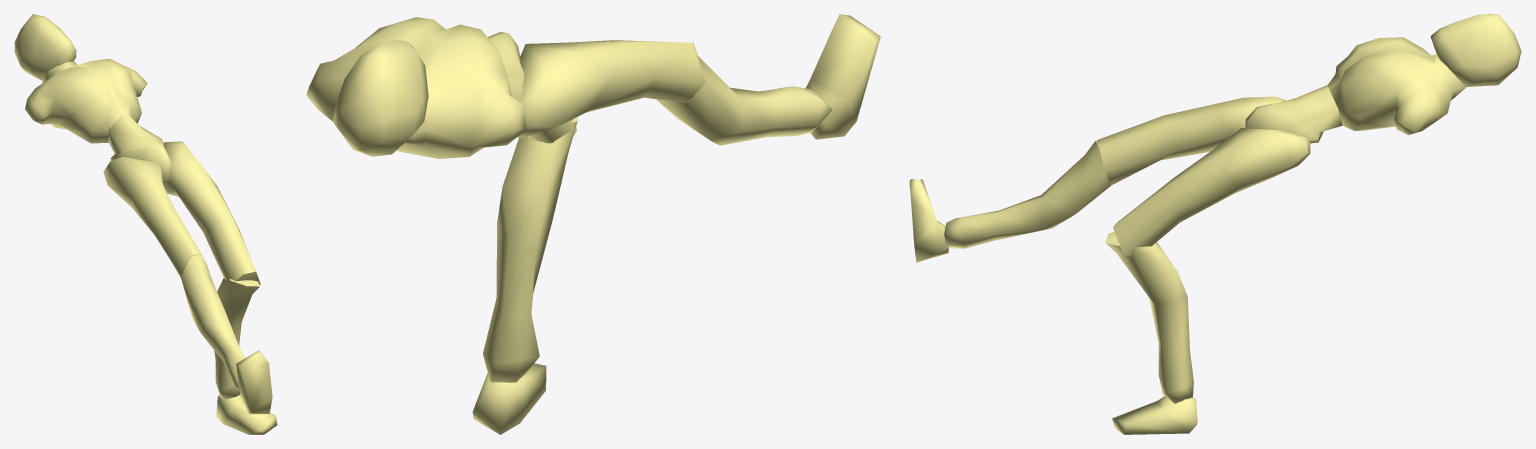
File: filth9.obj
3 renders of one model, left to right at view 1: azimuth 30°, elevation 25°; view 2: azimuth 150°, elevation 25°; view 3: azimuth 270°, elevation 25°, orthographic. The views are drawn at different scales.
Visible parts, largest first — view 1: Melee_Husk; view 2: Melee_Husk; view 3: Melee_Husk.
Part boxes in pixels (bbox=[...]): Melee_Husk: bbox=[14, 14, 277, 434]; Melee_Husk: bbox=[306, 14, 880, 434]; Melee_Husk: bbox=[909, 14, 1521, 434].
Size of the model in its own units: 22.88 by 53.95 by 78.55.
